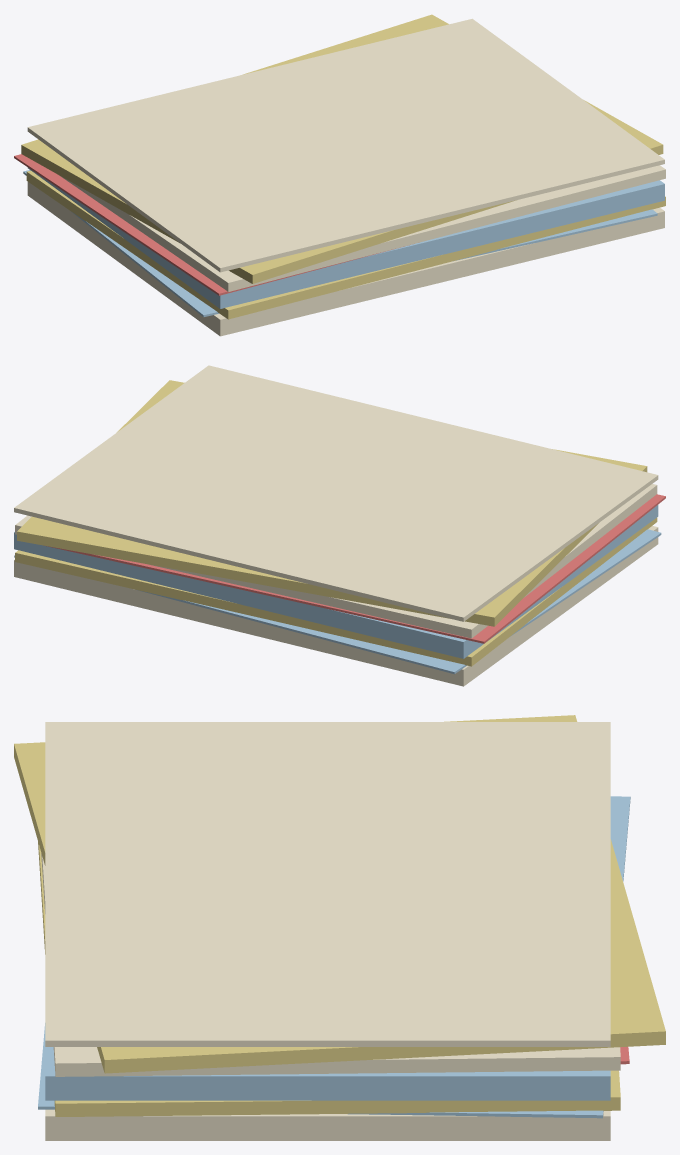
File: stackofpaperdetailed_modelingfbx.fbx
3 renders of one model, top to bottom at view 1: azimuth 30°, elevation 25°; view 2: azimuth 150°, elevation 25°; view 3: azimuth 270°, elevation 25°, orthographic. The views are drawn at different scales.
Visible parts, largest first — view 1: stackofpaperdetailed_modelingfbx; view 2: stackofpaperdetailed_modelingfbx; view 3: stackofpaperdetailed_modelingfbx.
Part boxes in pixels (box(x1,y1,x2,y2)): stackofpaperdetailed_modelingfbx: box(14, 14, 665, 336); stackofpaperdetailed_modelingfbx: box(14, 365, 665, 686); stackofpaperdetailed_modelingfbx: box(14, 715, 665, 1140).
Bounding box in the file's own units: 866 × 117 × 692.
